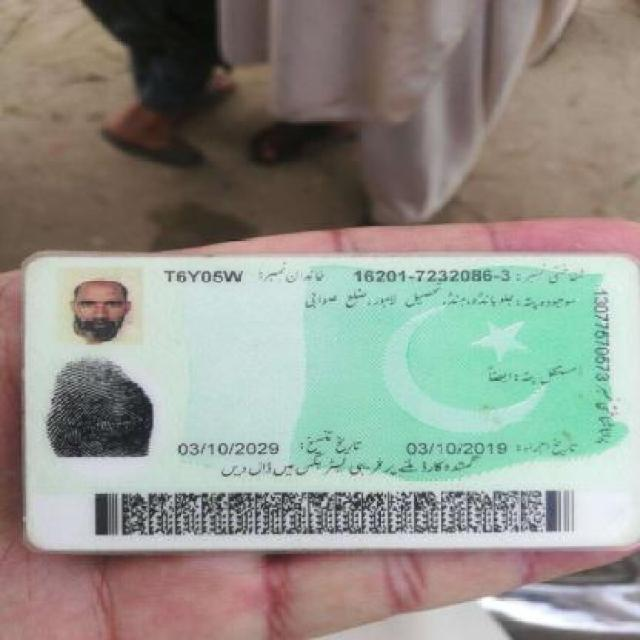Back: (14, 245, 635, 549)
